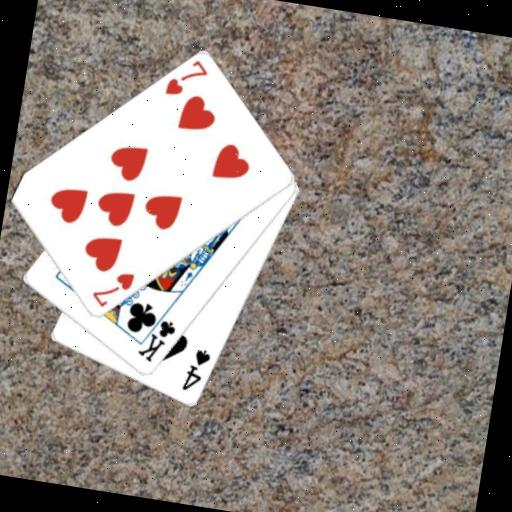4S: (178, 344, 214, 395)
7H: (161, 53, 211, 103), (86, 264, 136, 313)
KC: (132, 304, 180, 367)
